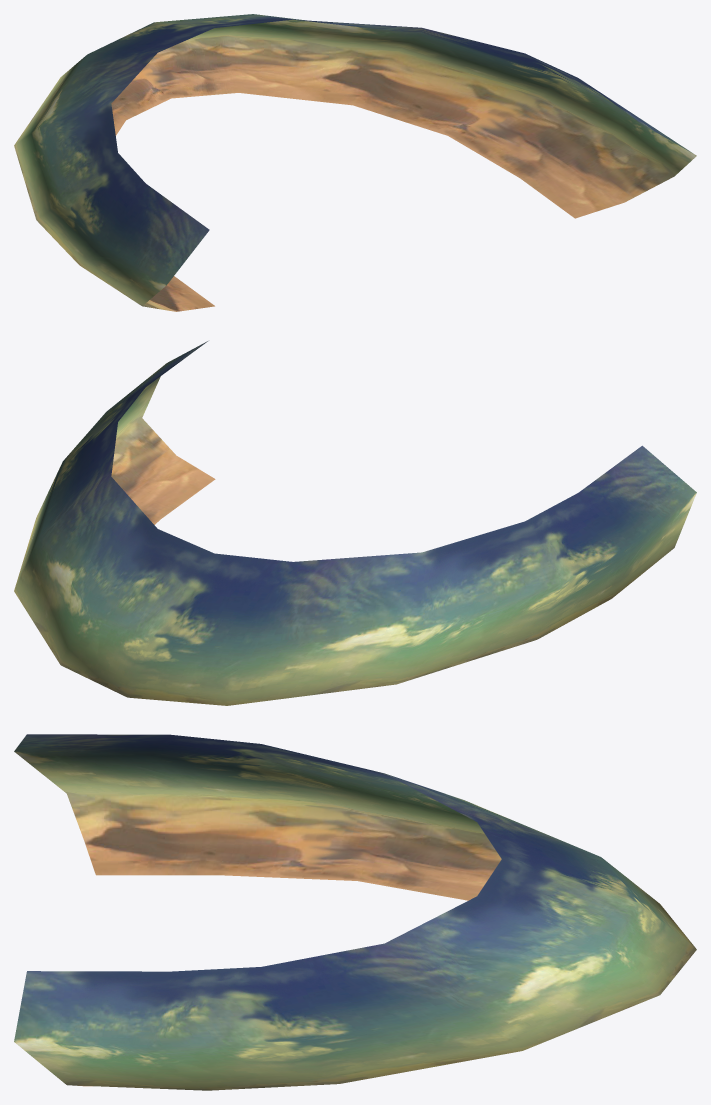
The model's file is tx_fxtk001.FBX.
The picture shows the model from 3 angles, top to bottom: view 1: azimuth 30°, elevation 25°; view 2: azimuth 150°, elevation 25°; view 3: azimuth 270°, elevation 25°; orthographic projection. The views are drawn at different scales.
Parts seen in each view (by area): view 1: tx_fxtk001; view 2: tx_fxtk001; view 3: tx_fxtk001.
Part boxes in pixels (<box>): tx_fxtk001: <box>14,14,696,311</box>; tx_fxtk001: <box>14,341,696,705</box>; tx_fxtk001: <box>14,734,696,1090</box>.
Size of the model in its own units: 76.35 by 14.78 by 75.6.
